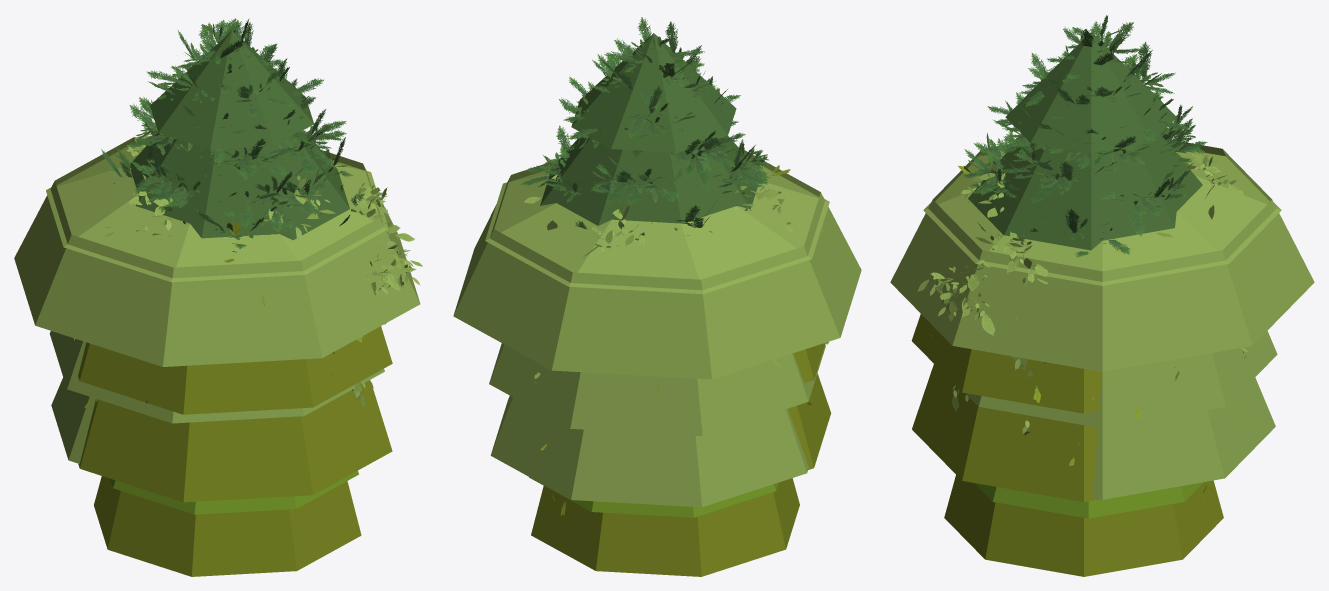
Rendered from trees.glb.
3 renders of one model, left to right at view 1: azimuth 30°, elevation 25°; view 2: azimuth 150°, elevation 25°; view 3: azimuth 270°, elevation 25°, orthographic.
Visible parts, largest first — view 1: birch-3-leaf, willow-3-leaf, fir-3-leaf, fir-2-leaf, fir-1-leaf, fir-0-leaf, maple-3-leaf, birch-2-leaf, birch-0-leaf, birch-1-leaf; view 2: birch-3-leaf, fir-3-leaf, willow-3-leaf, fir-2-leaf, fir-1-leaf, fir-0-leaf, maple-3-leaf, birch-2-leaf; view 3: birch-3-leaf, willow-3-leaf, fir-3-leaf, fir-2-leaf, maple-3-leaf, fir-1-leaf, fir-0-leaf, birch-2-leaf, birch-1-leaf, birch-0-leaf.
Boxes of the visible parts, x1=… form: birch-3-leaf: x1=14, y1=137, x2=420, y2=463; willow-3-leaf: x1=78, y1=326, x2=392, y2=576; fir-3-leaf: x1=130, y1=31, x2=349, y2=240; fir-2-leaf: x1=101, y1=18, x2=364, y2=248; fir-1-leaf: x1=109, y1=22, x2=352, y2=236; fir-0-leaf: x1=112, y1=24, x2=347, y2=240; maple-3-leaf: x1=110, y1=470, x2=358, y2=514; birch-2-leaf: x1=74, y1=128, x2=422, y2=406; birch-0-leaf: x1=105, y1=137, x2=417, y2=400; birch-1-leaf: x1=105, y1=130, x2=420, y2=399; birch-3-leaf: x1=453, y1=150, x2=861, y2=507; fir-3-leaf: x1=540, y1=33, x2=767, y2=225; willow-3-leaf: x1=531, y1=343, x2=831, y2=576; fir-2-leaf: x1=519, y1=17, x2=781, y2=245; fir-1-leaf: x1=534, y1=31, x2=769, y2=227; fir-0-leaf: x1=545, y1=36, x2=763, y2=232; maple-3-leaf: x1=529, y1=477, x2=778, y2=517; birch-2-leaf: x1=524, y1=144, x2=786, y2=366; birch-3-leaf: x1=890, y1=142, x2=1314, y2=499; willow-3-leaf: x1=911, y1=314, x2=1223, y2=576; fir-3-leaf: x1=968, y1=32, x2=1202, y2=250; fir-2-leaf: x1=963, y1=21, x2=1219, y2=257; maple-3-leaf: x1=974, y1=482, x2=1203, y2=518; fir-1-leaf: x1=968, y1=15, x2=1195, y2=246; fir-0-leaf: x1=972, y1=20, x2=1195, y2=241; birch-2-leaf: x1=918, y1=147, x2=1245, y2=440; birch-1-leaf: x1=923, y1=154, x2=1247, y2=434; birch-0-leaf: x1=929, y1=158, x2=1246, y2=432.
Bounding box in the file's own units: 16.63 × 21.77 × 16.63.
Materials: 34 (17 with a texture image).
